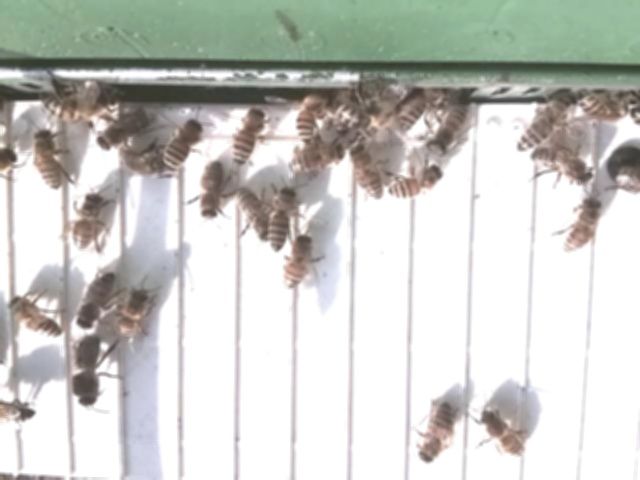Drone: (67, 332, 104, 412)
Worker: (413, 397, 460, 468), (526, 143, 597, 189), (558, 194, 605, 259), (473, 407, 529, 461), (513, 99, 569, 153), (65, 189, 110, 256), (6, 294, 65, 343), (226, 107, 270, 170), (263, 184, 302, 254), (74, 269, 118, 331), (111, 282, 152, 346), (28, 127, 66, 195), (161, 117, 205, 175), (347, 139, 386, 204), (37, 89, 106, 124), (232, 184, 271, 244), (280, 233, 319, 293), (384, 168, 446, 205), (193, 158, 226, 225), (286, 144, 348, 178), (574, 89, 627, 127), (293, 86, 326, 146)
